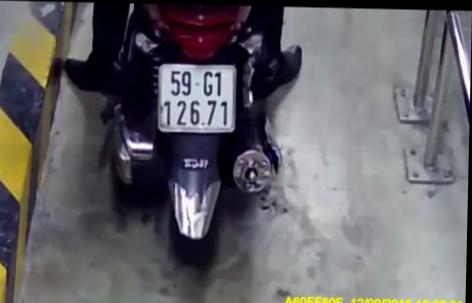LP: (155, 60, 240, 133)
